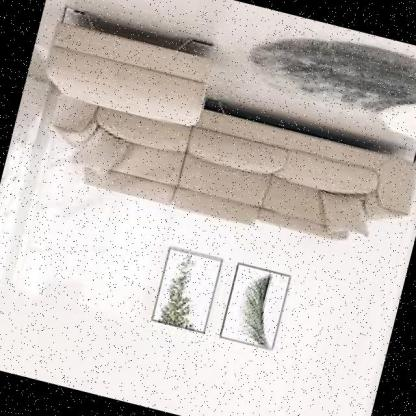Sofa: (3, 0, 416, 276)
